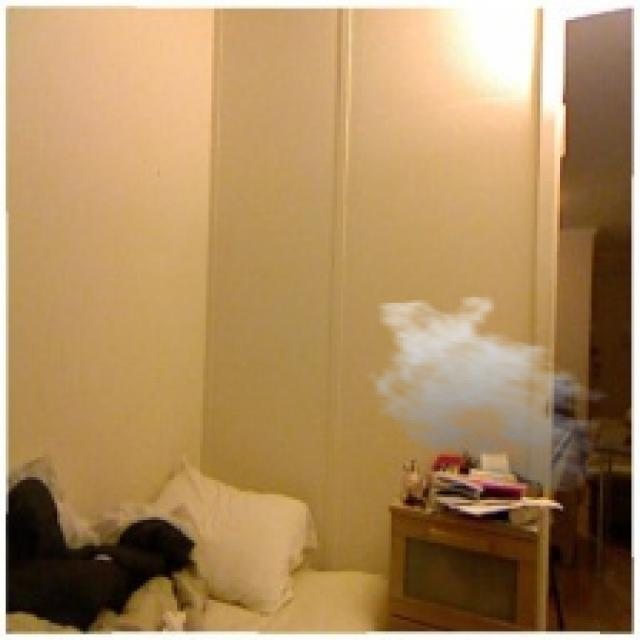smoke: (363, 294, 623, 494)
